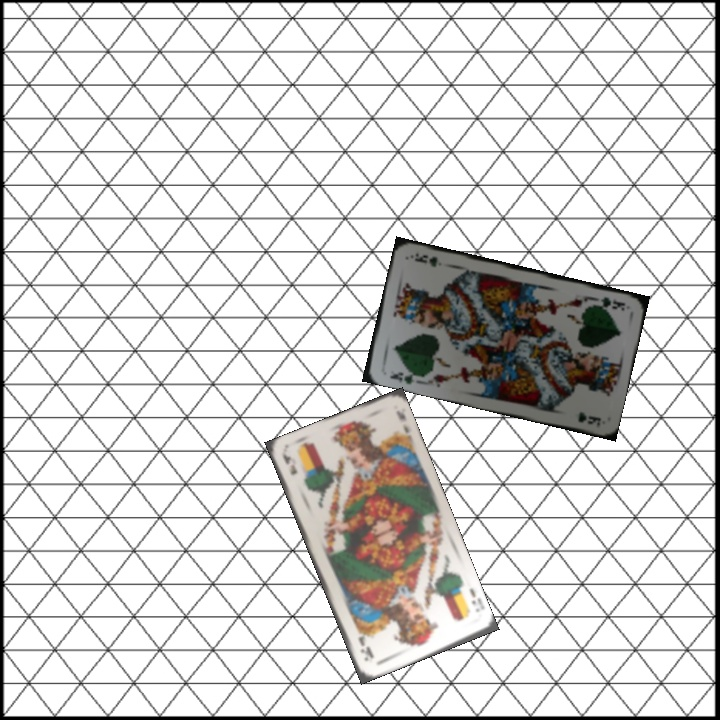EK: (279, 451, 300, 478), (465, 584, 483, 615)
GK: (589, 293, 628, 313), (386, 367, 420, 387)
